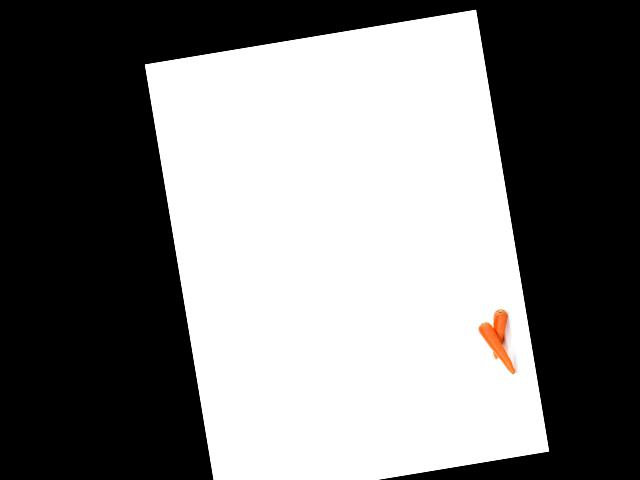carrot: (485, 303, 514, 363)
